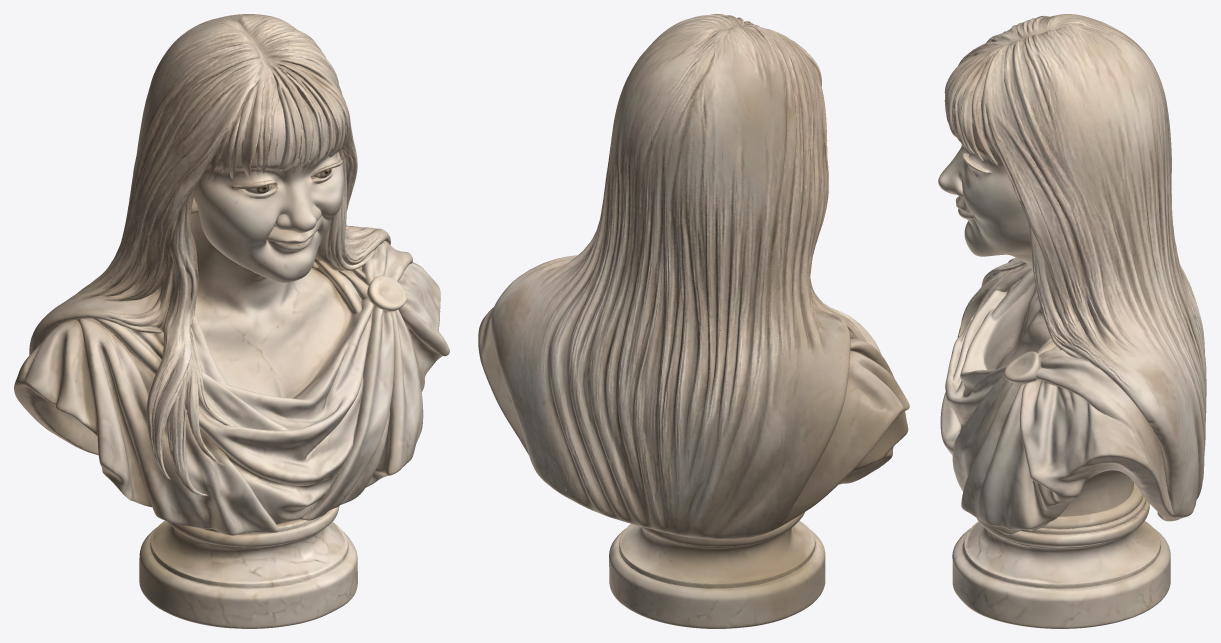
3 renders of one model, left to right at view 1: azimuth 30°, elevation 25°; view 2: azimuth 150°, elevation 25°; view 3: azimuth 270°, elevation 25°, orthographic.
Visible parts, largest first — view 1: model; view 2: model; view 3: model.
Boxes of the visible parts, bbox=[...] form: model: bbox=[14, 14, 449, 628]; model: bbox=[478, 14, 909, 628]; model: bbox=[938, 14, 1206, 628].
Bounding box in the file's own units: 1.46 × 1.9 × 0.8263.
Materials: 1 (1 with a texture image).
